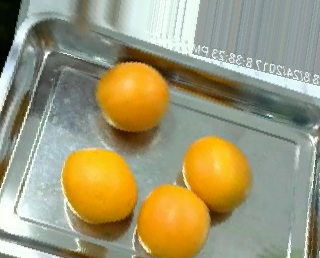Orange: (61, 147, 136, 224), (136, 182, 211, 258), (180, 135, 251, 214), (95, 60, 168, 132)
